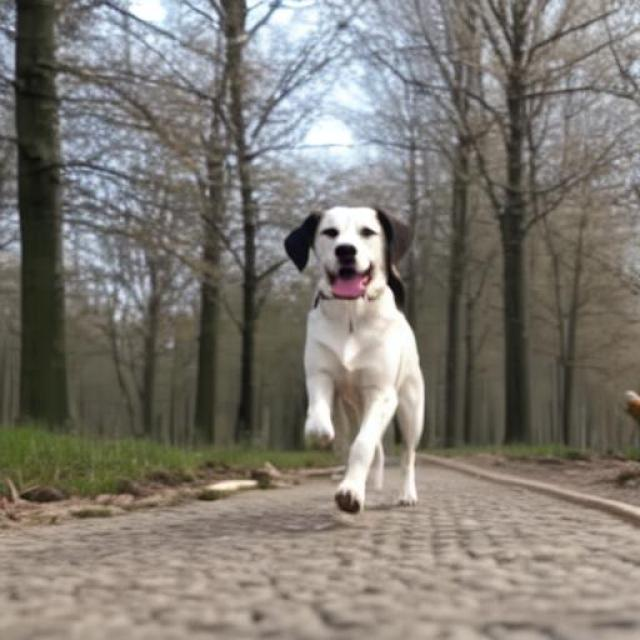Dog: (284, 204, 426, 516)
